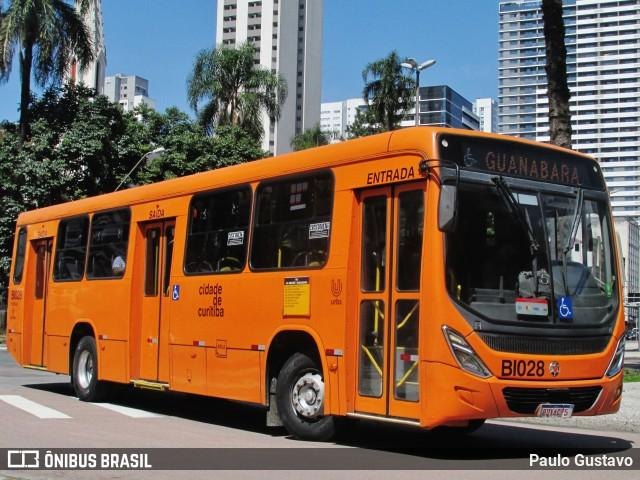GUANABARA: (479, 145, 585, 191)
